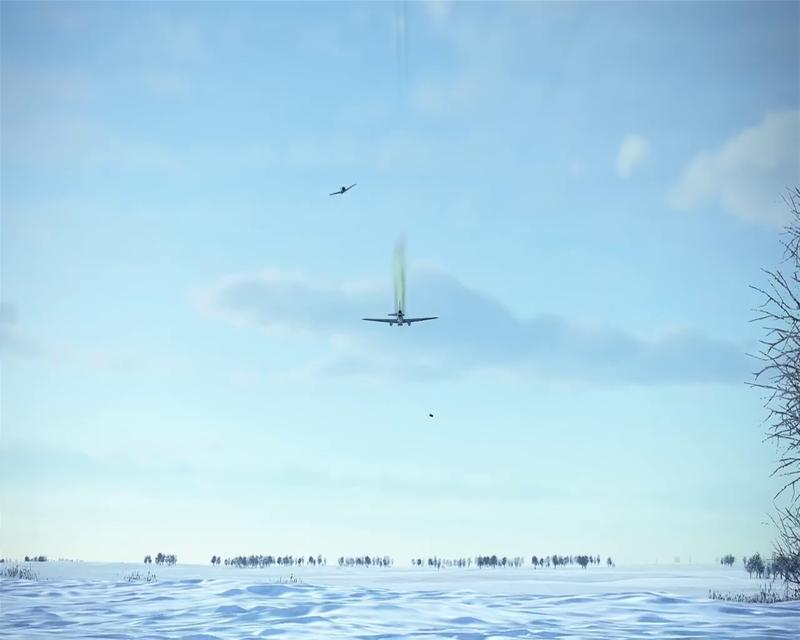UAV: (362, 309, 438, 327), (329, 182, 356, 198)
